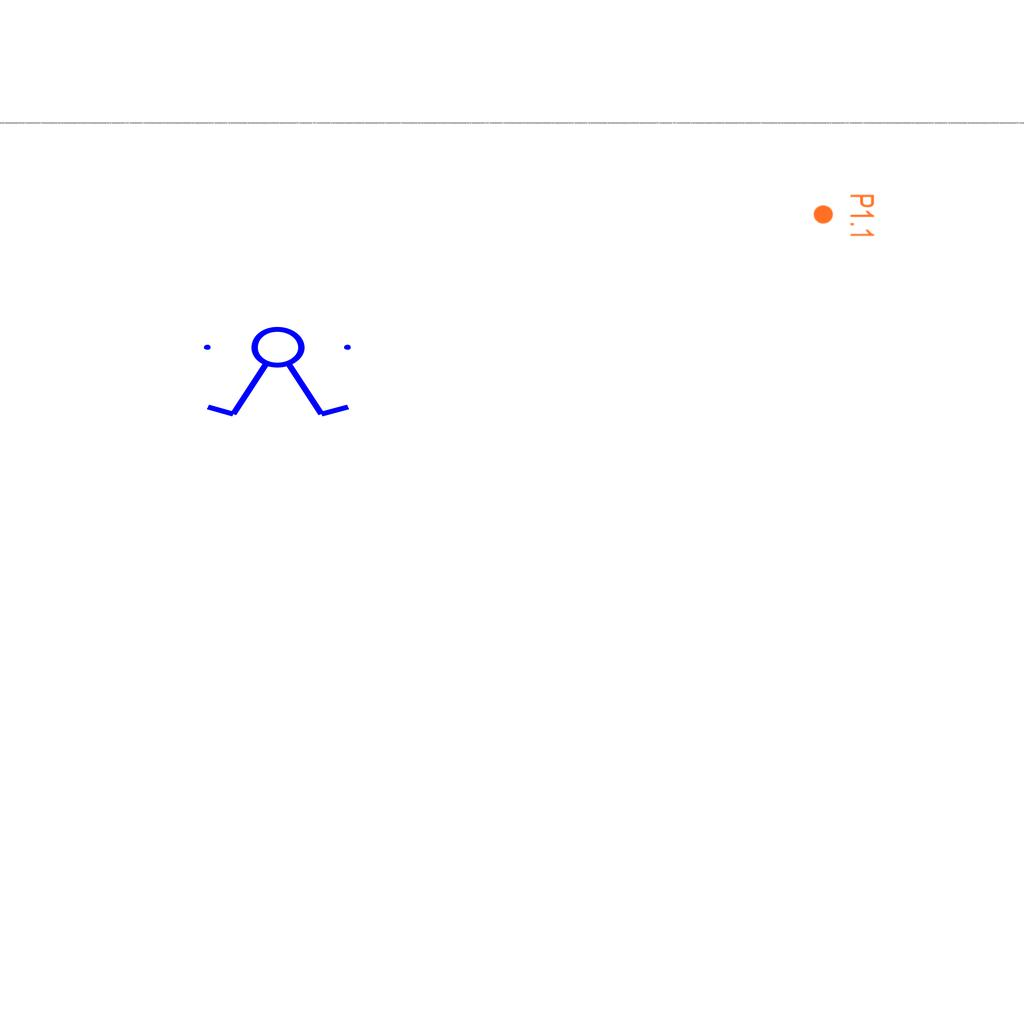Downlight_LED_Einbauleuchten_Flur: (812, 193, 876, 239)
Serienschalter: (195, 325, 363, 421)
